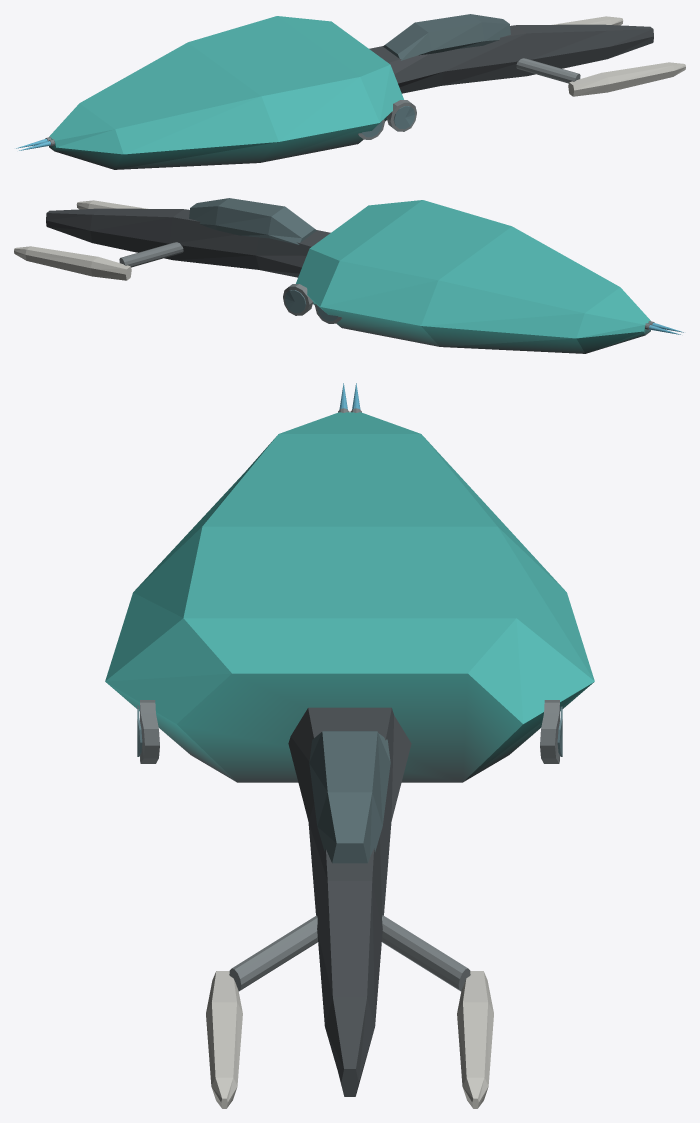
File: opal_jet_teal_flight.glb
3 views of the same model, one above another, from view 1: azimuth 30°, elevation 25°; view 2: azimuth 150°, elevation 25°; view 3: azimuth 270°, elevation 25° (orthographic). The views are drawn at different scales.
Visible parts, largest first — view 1: rear_lower_hull_0, front_spar_1, cockpit_shell_2, forward_pods_5, outrigger_support_4, side_thruster_face_7, side_thruster_casing_6; view 2: rear_lower_hull_0, front_spar_1, cockpit_shell_2, forward_pods_5, outrigger_support_4, side_thruster_face_7, side_thruster_casing_6; view 3: rear_lower_hull_0, front_spar_1, cockpit_shell_2, forward_pods_5, outrigger_support_4, side_thruster_casing_6.
Boxes of the visible parts, box(x1,y1,x2,y2) form: rear_lower_hull_0: box(49, 16, 403, 169); front_spar_1: box(369, 24, 653, 93); cockpit_shell_2: box(383, 14, 510, 60); forward_pods_5: box(552, 16, 685, 96); outrigger_support_4: box(516, 58, 580, 83); side_thruster_face_7: box(361, 106, 415, 137); side_thruster_casing_6: box(358, 100, 416, 139); rear_lower_hull_0: box(296, 200, 650, 353); front_spar_1: box(46, 208, 330, 277); cockpit_shell_2: box(189, 198, 316, 244); forward_pods_5: box(14, 200, 147, 280); outrigger_support_4: box(119, 242, 183, 267); side_thruster_face_7: box(284, 290, 338, 321); side_thruster_casing_6: box(283, 284, 342, 323); rear_lower_hull_0: box(105, 412, 594, 782); front_spar_1: box(288, 707, 411, 1096); cockpit_shell_2: box(309, 731, 390, 863); forward_pods_5: box(206, 971, 493, 1108); outrigger_support_4: box(229, 915, 470, 991); side_thruster_casing_6: box(140, 700, 559, 763).
Bounding box in the file's own units: 10.53 × 1.33 × 3.5.
